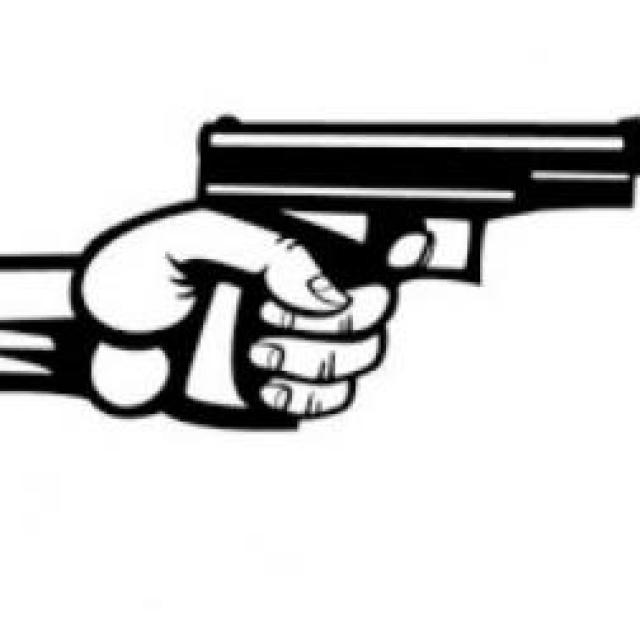pistol: (173, 104, 640, 431)
